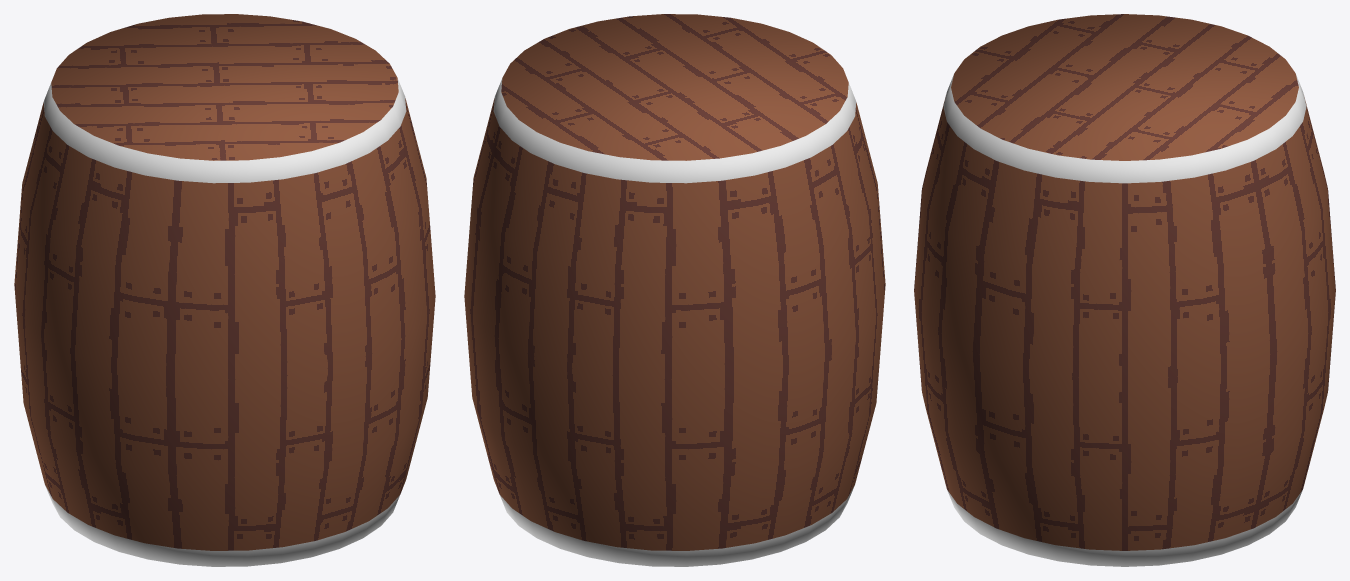
Rendered from barrel.glb.
3 views of the same model, side by side, from view 1: azimuth 30°, elevation 25°; view 2: azimuth 150°, elevation 25°; view 3: azimuth 270°, elevation 25° (orthographic).
Parts seen in each view (by area): view 1: Cylinder; view 2: Cylinder; view 3: Cylinder.
Part boxes in pixels (box(x1,y1,x2,y2)): Cylinder: box(14, 14, 435, 566); Cylinder: box(464, 14, 885, 566); Cylinder: box(914, 14, 1335, 566).
Bounding box in the file's own units: 2.36 × 2.5 × 2.36.
Materials: 2 (1 with a texture image).
